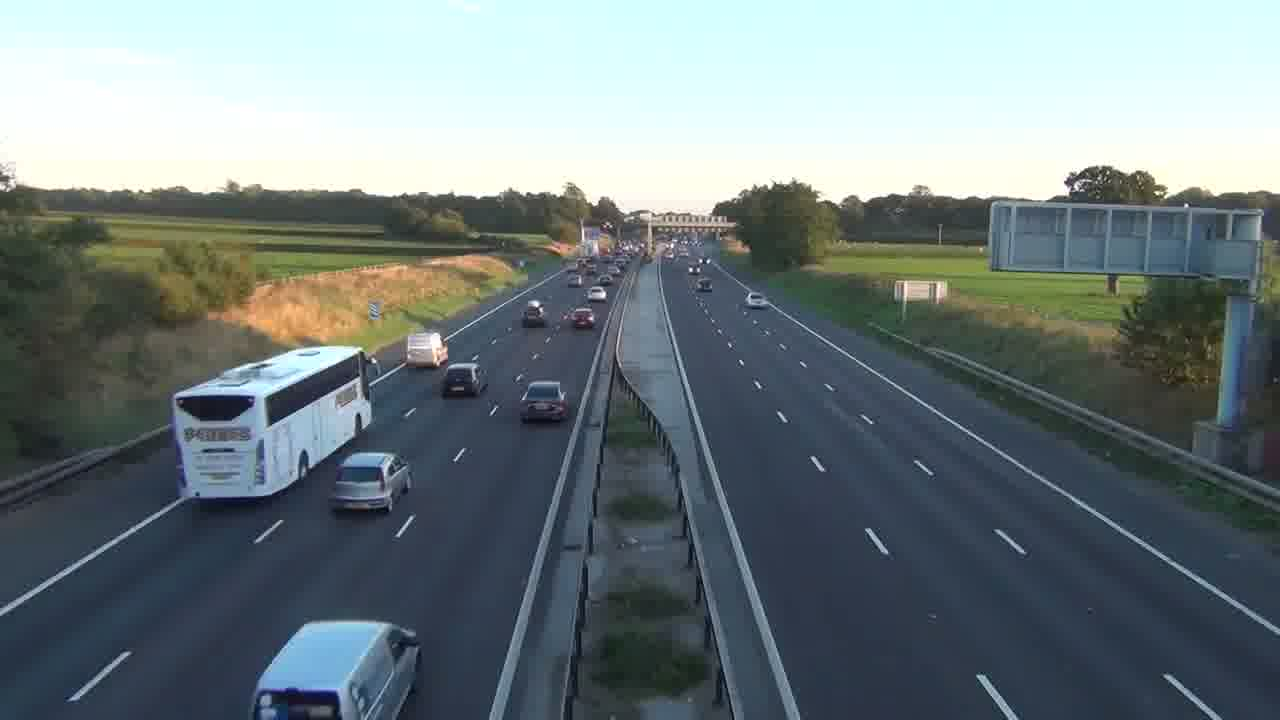bus: (171, 342, 374, 503)
car: (249, 618, 422, 717), (329, 451, 413, 513), (519, 380, 568, 422), (441, 361, 487, 397), (571, 306, 595, 329)
truck: (405, 331, 448, 369)
